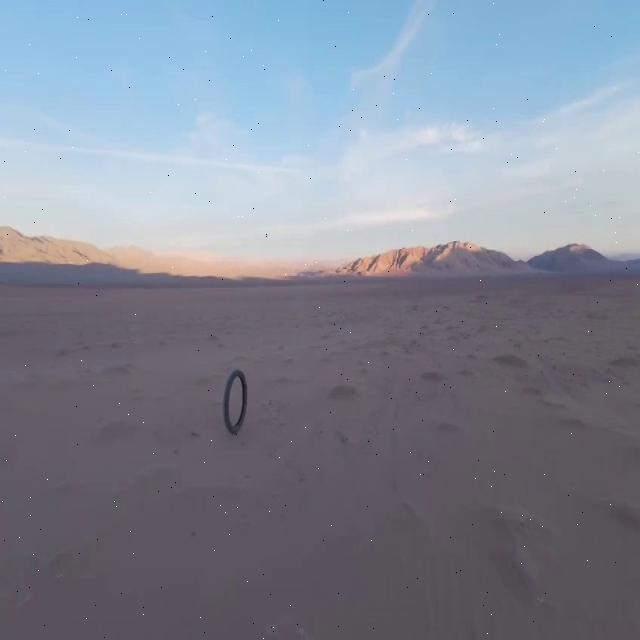Tire: (224, 370, 246, 434)
